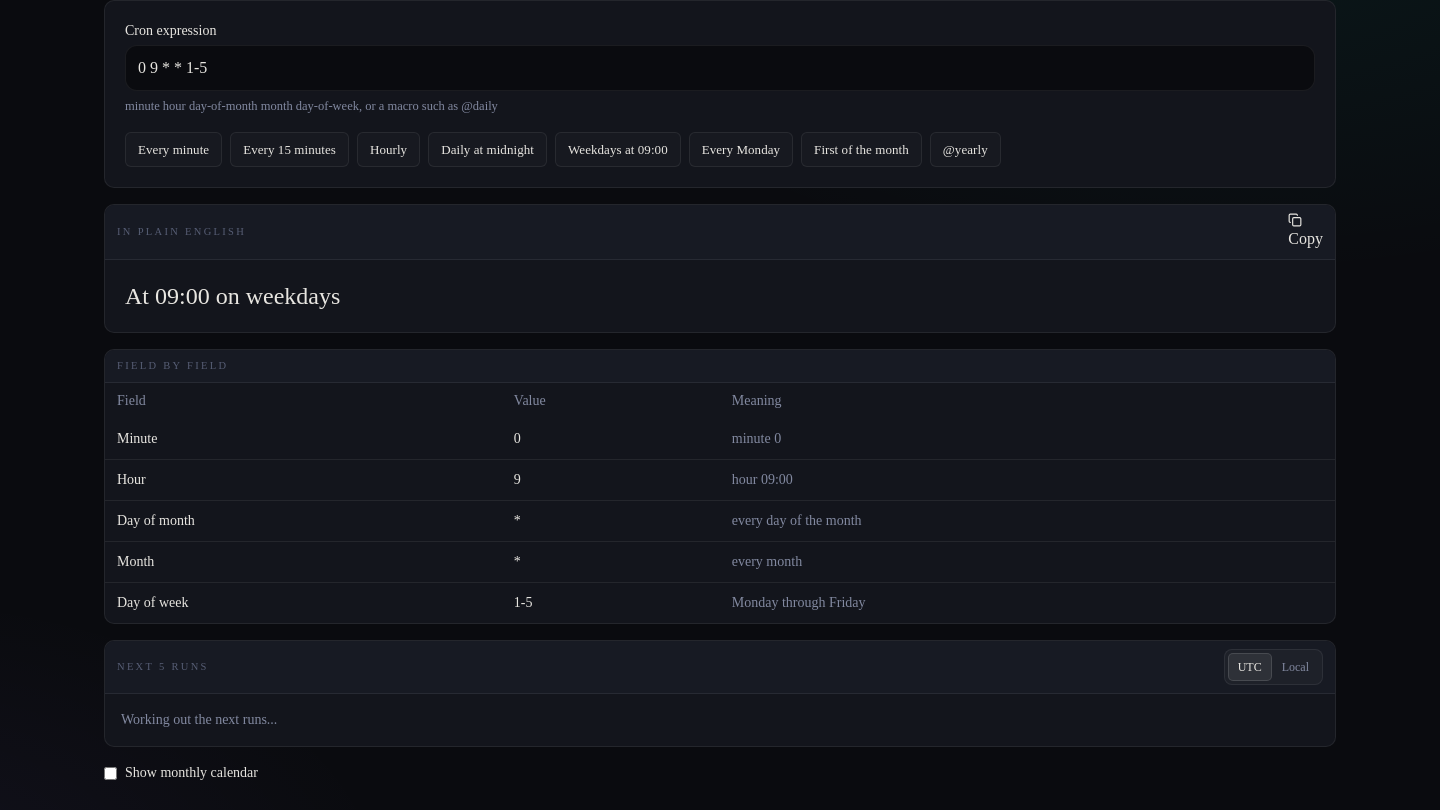
Test: CronExplainerClient › shows a table that explains each field
The width and height of the screenshot is (1440, 810).
Replace the text in the field labelled "Cron expression" with "*/15 9-17 1,15 JAN-MAR MON-FRI" at (720,68), box x1=125 y1=45 x2=1315 y2=91
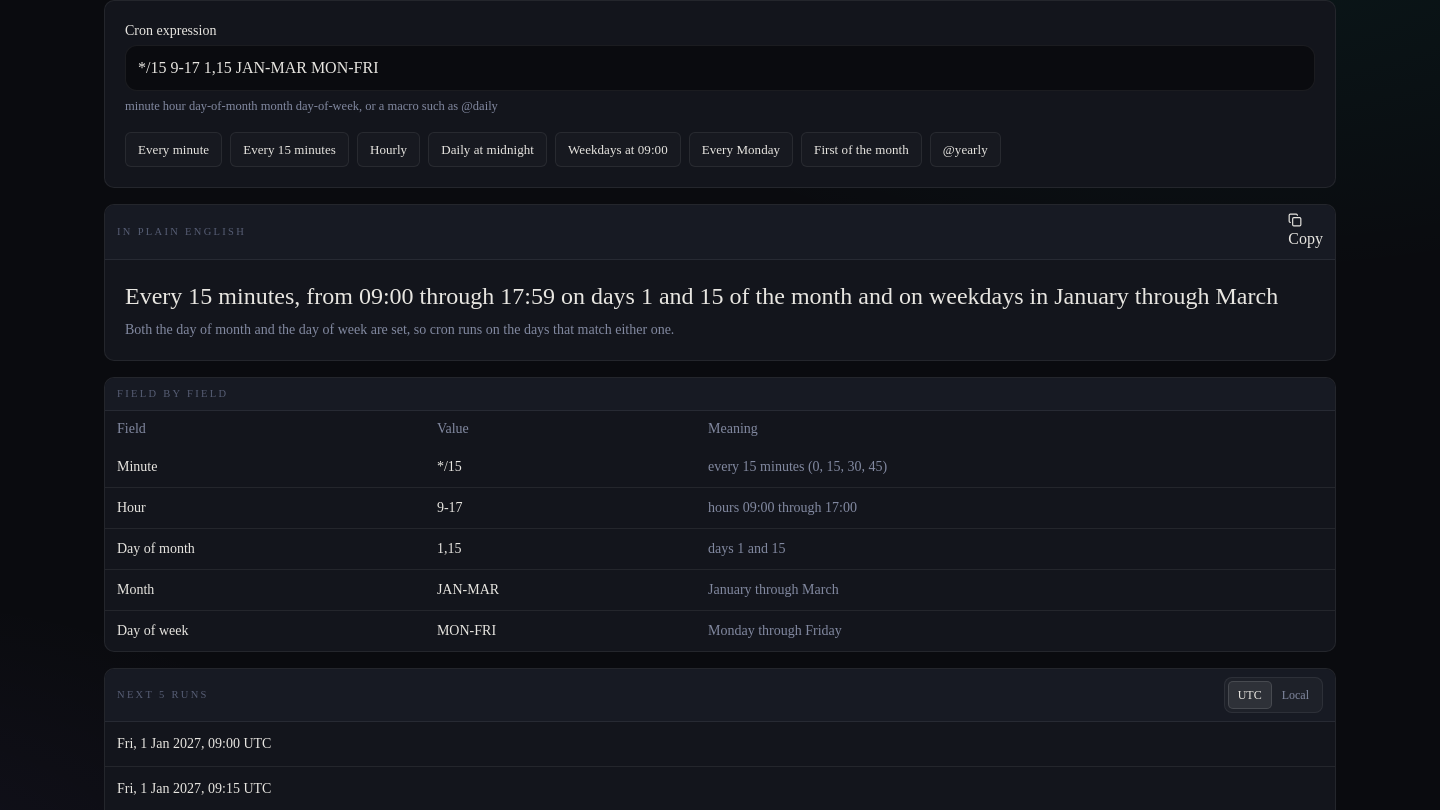
Expected: the number of rows is 6, x1=105 y1=411 x2=1335 y2=447; x1=105 y1=447 x2=1335 y2=488; x1=105 y1=488 x2=1335 y2=528; x1=105 y1=528 x2=1335 y2=570; x1=105 y1=570 x2=1335 y2=610; x1=105 y1=610 x2=1335 y2=651
Expected: the row "Minute */15 every 15 minutes (0, 15, 30, 45)" is shown, x1=105 y1=447 x2=1335 y2=488
Expected: the row "Month JAN-MAR January through March" is shown, x1=105 y1=570 x2=1335 y2=610
